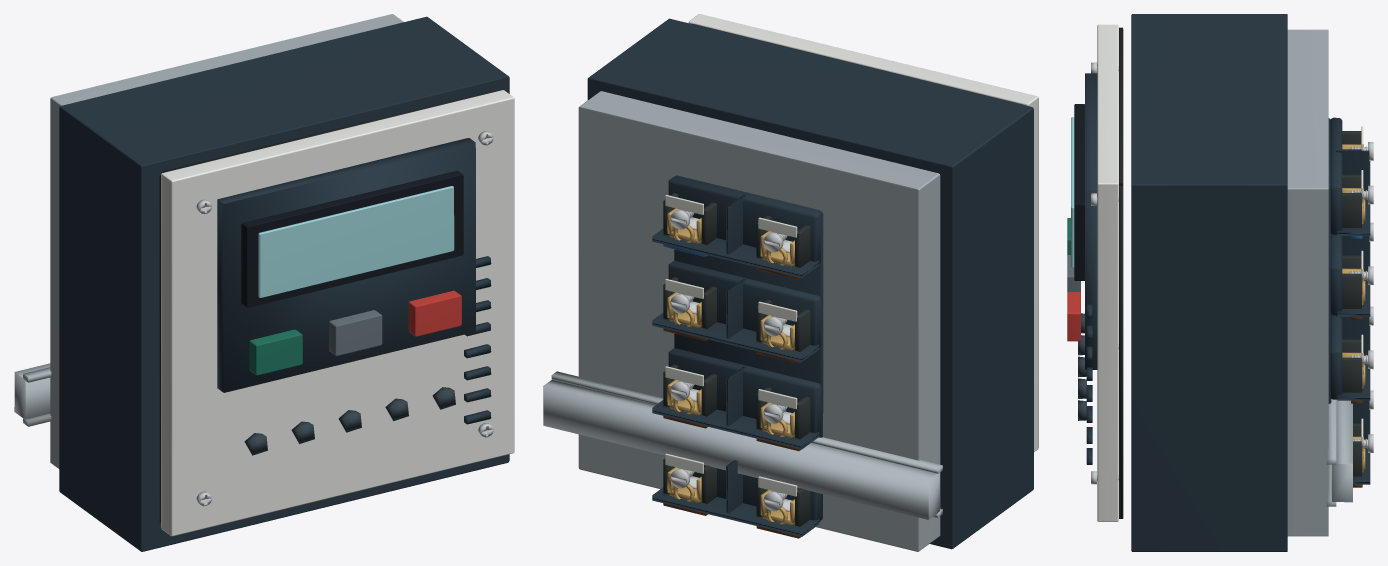
Rendered from safetyRelay_default.low.glb.
3 renders of one model, left to right at view 1: azimuth 30°, elevation 25°; view 2: azimuth 150°, elevation 25°; view 3: azimuth 270°, elevation 25°, orthographic. The views are drawn at different scales.
Parts seen in each view (by area): view 1: part:body, part:cover, part:cover · Original a463fd81, part:body.001, part:mounting · Original 2a8198d3, part:body.004, part:body.002, part:body.003, detail:enclosure-gasket-and-fixings · Detail rubber gasket, detail:enclosure-gasket-and-fixings · Detail zinc plated fix; view 2: part:body, part:terminals · Original a463fd81, part:mounting · Original 2a8198d3, part:cover, detail:terminal-clamp:S1 · Detail moulded engineering polyme, detail:terminal-clamp:RESET · Detail moulded engineering pol, detail:terminal-clamp:L · Detail moulded engineering polymer, detail:terminal-clamp:N · Detail moulded engineering polymer, detail:terminal-clamp:S2 · Detail moulded engineering polyme, detail:terminal-clamp:FB · Detail moulded engineering polyme, detail:terminal-clamp:COM · Detail moulded engineering polym, detail:terminal-clamp:OUT · Detail moulded engineering polym (+6 smaller); view 3: part:body, part:cover, part:terminals · Original a463fd81, part:cover · Original a463fd81, part:mounting · Original 2a8198d3, detail:enclosure-gasket-and-fixings · Detail rubber gasket, part:body.001, detail:terminal-clamp:FB · Detail moulded engineering polyme, detail:terminal-clamp:S2 · Detail moulded engineering polyme, detail:terminal-clamp:N · Detail moulded engineering polymer, part:body.004, detail:terminal-clamp:OUT · Detail moulded engineering polym.
Boxes of the visible parts, left/top/right/bottom form: part:body: left=50, top=14, right=509, bottom=551; part:cover: left=161, top=90, right=514, bottom=536; part:cover · Original a463fd81: left=217, top=138, right=491, bottom=424; part:body.001: left=241, top=170, right=463, bottom=307; part:mounting · Original 2a8198d3: left=14, top=363, right=51, bottom=426; part:body.004: left=408, top=290, right=461, bottom=336; part:body.002: left=249, top=329, right=302, bottom=375; part:body.003: left=329, top=310, right=382, bottom=355; detail:enclosure-gasket-and-fixings · Detail rubber gasket: left=159, top=90, right=497, bottom=522; detail:enclosure-gasket-and-fixings · Detail zinc plated fix: left=196, top=131, right=493, bottom=506; part:body: left=578, top=18, right=1033, bottom=551; part:terminals · Original a463fd81: left=652, top=175, right=823, bottom=536; part:mounting · Original 2a8198d3: left=543, top=371, right=942, bottom=519; part:cover: left=688, top=14, right=1038, bottom=451; detail:terminal-clamp:S1 · Detail moulded engineering polyme: left=756, top=300, right=810, bottom=352; detail:terminal-clamp:RESET · Detail moulded engineering pol: left=756, top=387, right=810, bottom=439; detail:terminal-clamp:L · Detail moulded engineering polymer: left=756, top=216, right=810, bottom=268; detail:terminal-clamp:N · Detail moulded engineering polymer: left=663, top=193, right=716, bottom=245; detail:terminal-clamp:S2 · Detail moulded engineering polyme: left=663, top=277, right=716, bottom=329; detail:terminal-clamp:FB · Detail moulded engineering polyme: left=663, top=364, right=716, bottom=416; detail:terminal-clamp:COM · Detail moulded engineering polym: left=756, top=481, right=810, bottom=527; detail:terminal-clamp:OUT · Detail moulded engineering polym: left=663, top=458, right=716, bottom=504; part:body: left=1131, top=14, right=1328, bottom=551; part:cover: left=1097, top=24, right=1118, bottom=521; part:terminals · Original a463fd81: left=1328, top=117, right=1370, bottom=484; part:cover · Original a463fd81: left=1085, top=73, right=1097, bottom=464; part:mounting · Original 2a8198d3: left=1326, top=399, right=1352, bottom=506; detail:enclosure-gasket-and-fixings · Detail rubber gasket: left=1119, top=27, right=1123, bottom=518; part:body.001: left=1071, top=104, right=1084, bottom=280; detail:terminal-clamp:FB · Detail moulded engineering polyme: left=1342, top=339, right=1362, bottom=392; detail:terminal-clamp:S2 · Detail moulded engineering polyme: left=1342, top=255, right=1362, bottom=308; detail:terminal-clamp:N · Detail moulded engineering polymer: left=1342, top=174, right=1362, bottom=227; part:body.004: left=1067, top=292, right=1080, bottom=341; detail:terminal-clamp:OUT · Detail moulded engineering polym: left=1353, top=423, right=1362, bottom=476.
Size of the model in its own units: 1.16 by 1.1 by 0.831.
